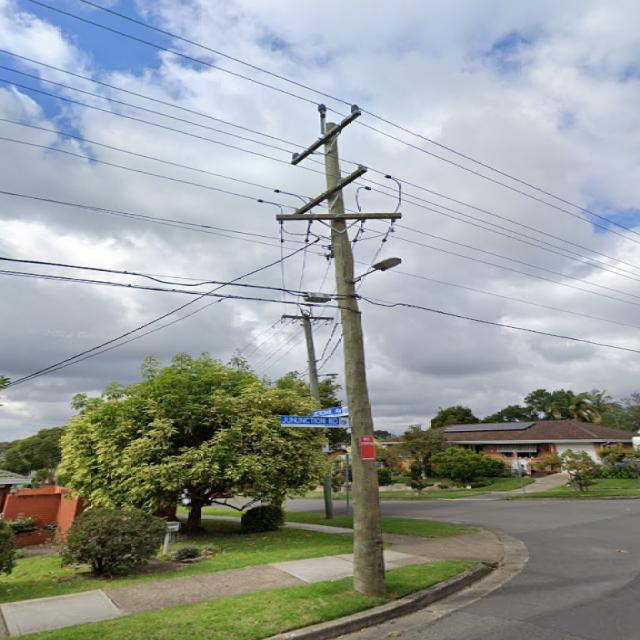HV-transmission: (290, 103, 360, 165)
crossarm: (289, 106, 359, 165), (292, 164, 364, 214), (273, 213, 400, 221), (278, 314, 331, 321)
streetlight: (352, 256, 401, 280)
timber-pole: (322, 121, 384, 593), (299, 314, 331, 518)
